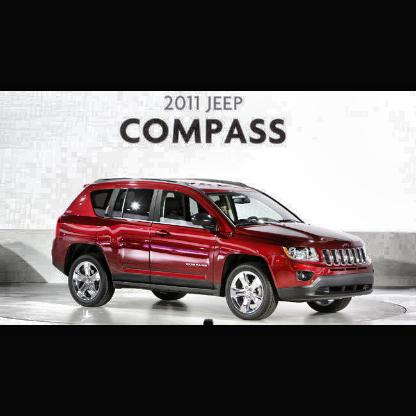Jeep Compass SUV 2012: (52, 177, 377, 324)
